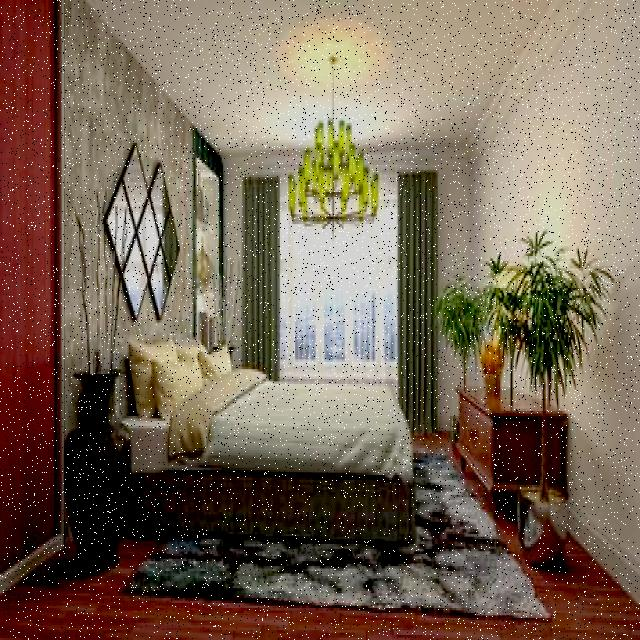bed: (118, 328, 414, 509)
